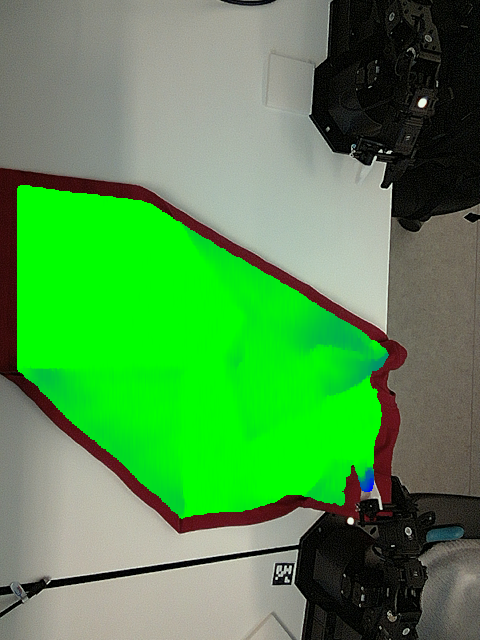V: (152, 357, 197, 399), (237, 407, 278, 451)
